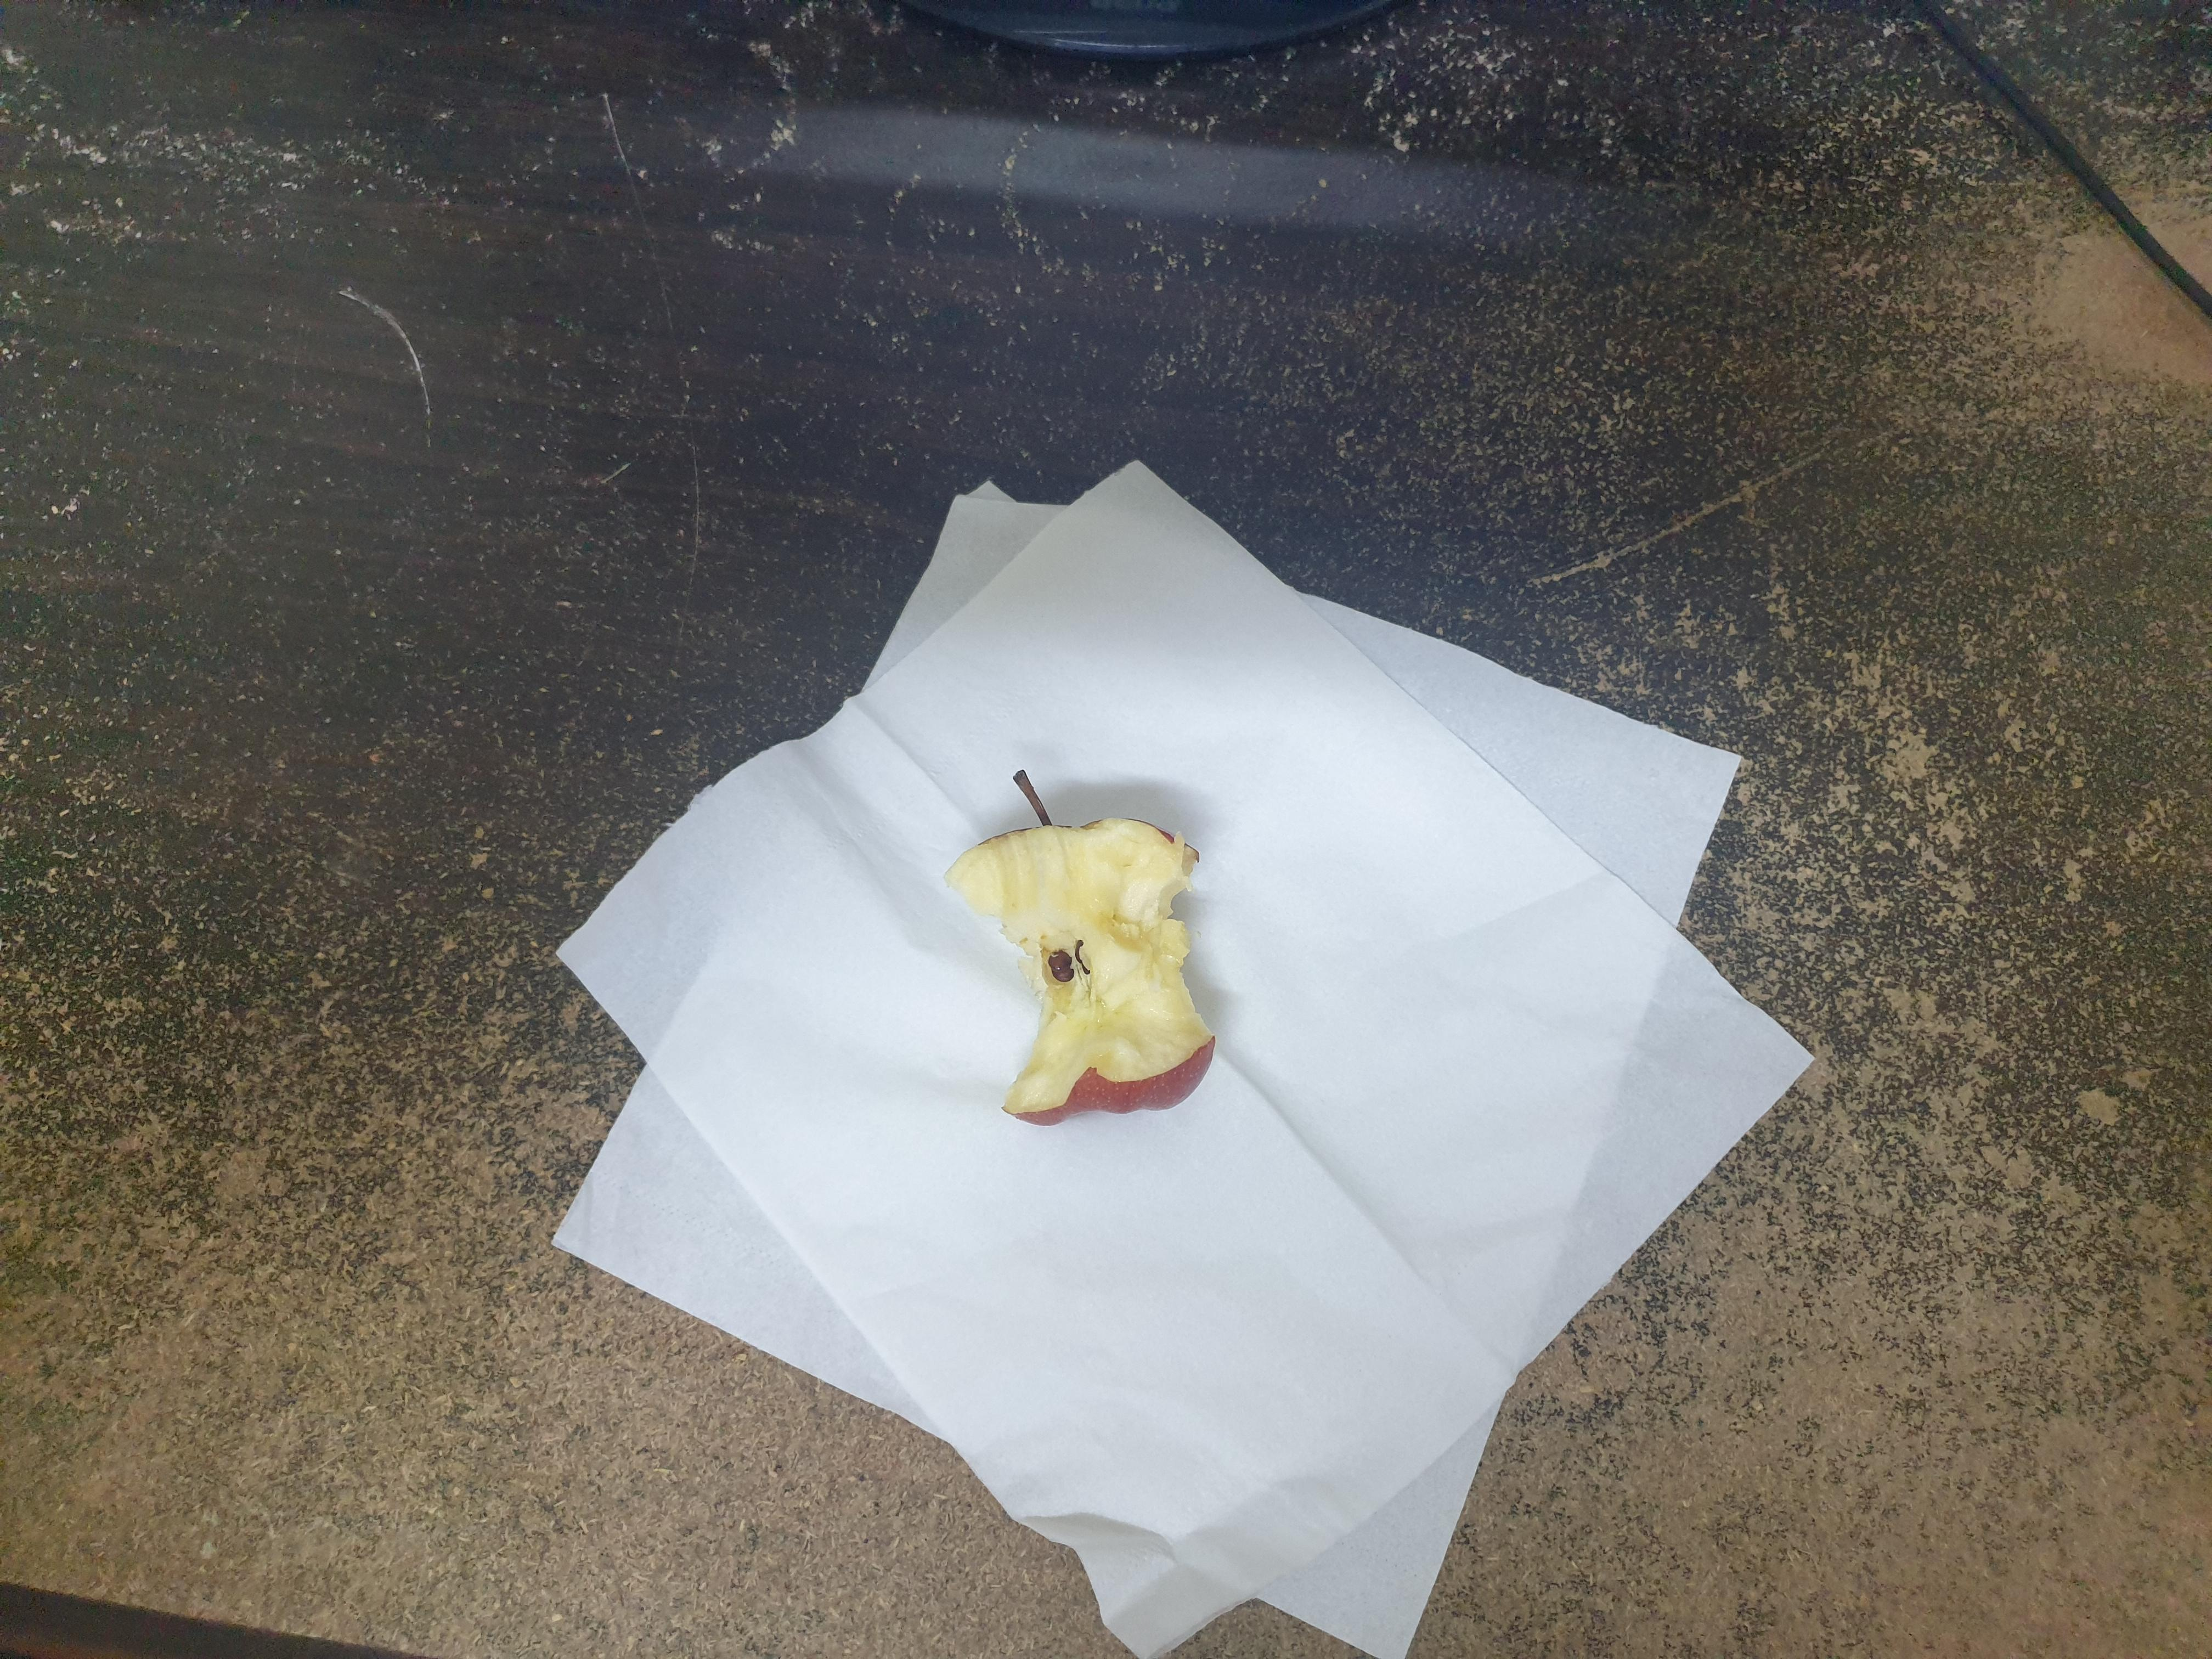Apple: (932, 749, 1252, 1154)
